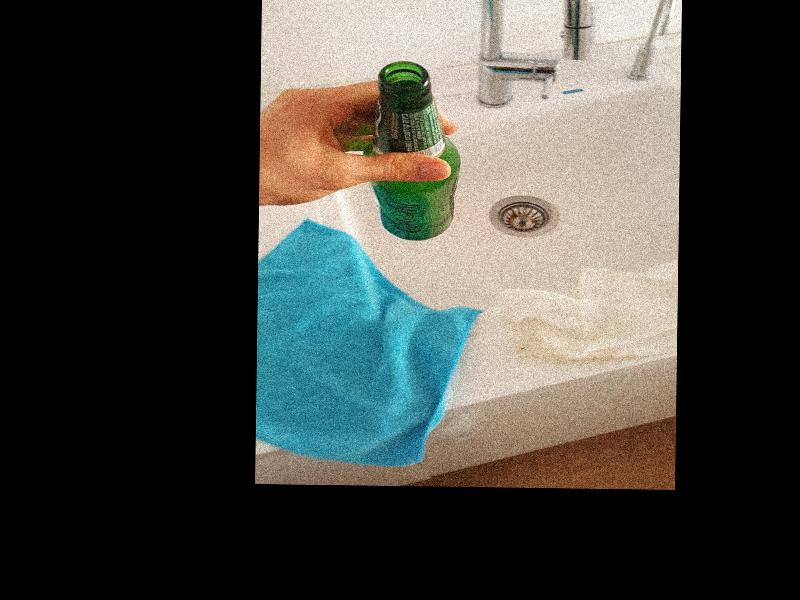Beer: (364, 61, 463, 242)
